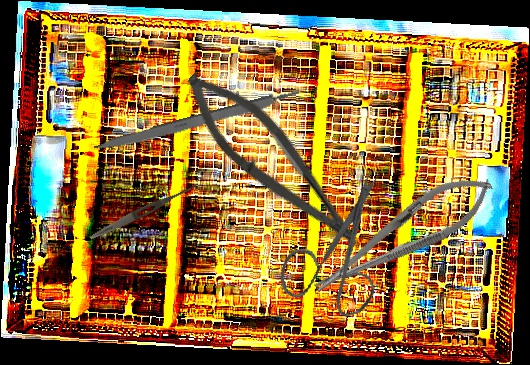Dressing Forceps: (88, 179, 200, 243)
Iris Scissors: (258, 168, 413, 331)
Micro Scissor: (167, 59, 381, 260)
Needle Holder: (302, 161, 503, 309)
Scalpel Handle: (92, 87, 302, 157)
